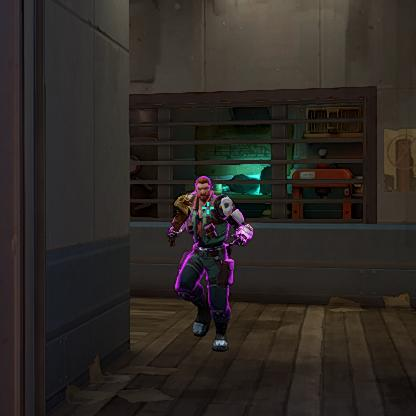enemyBody: (194, 201, 223, 245)
enemyHead: (196, 180, 211, 199)
